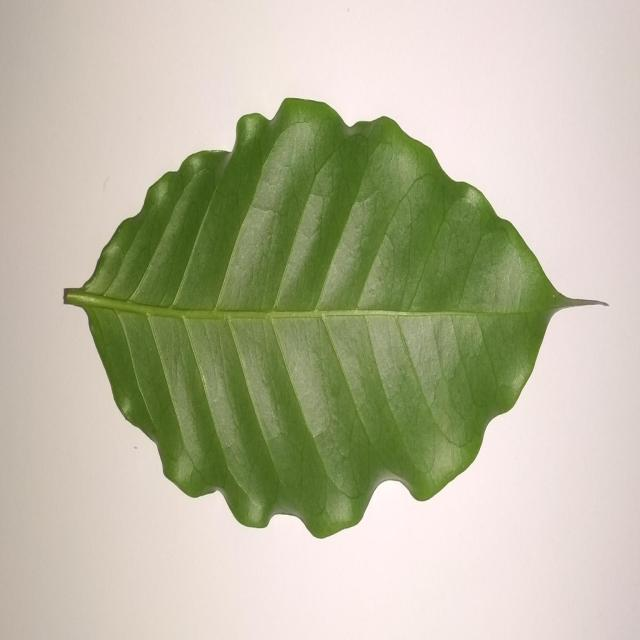Sanas: (62, 99, 608, 541)
